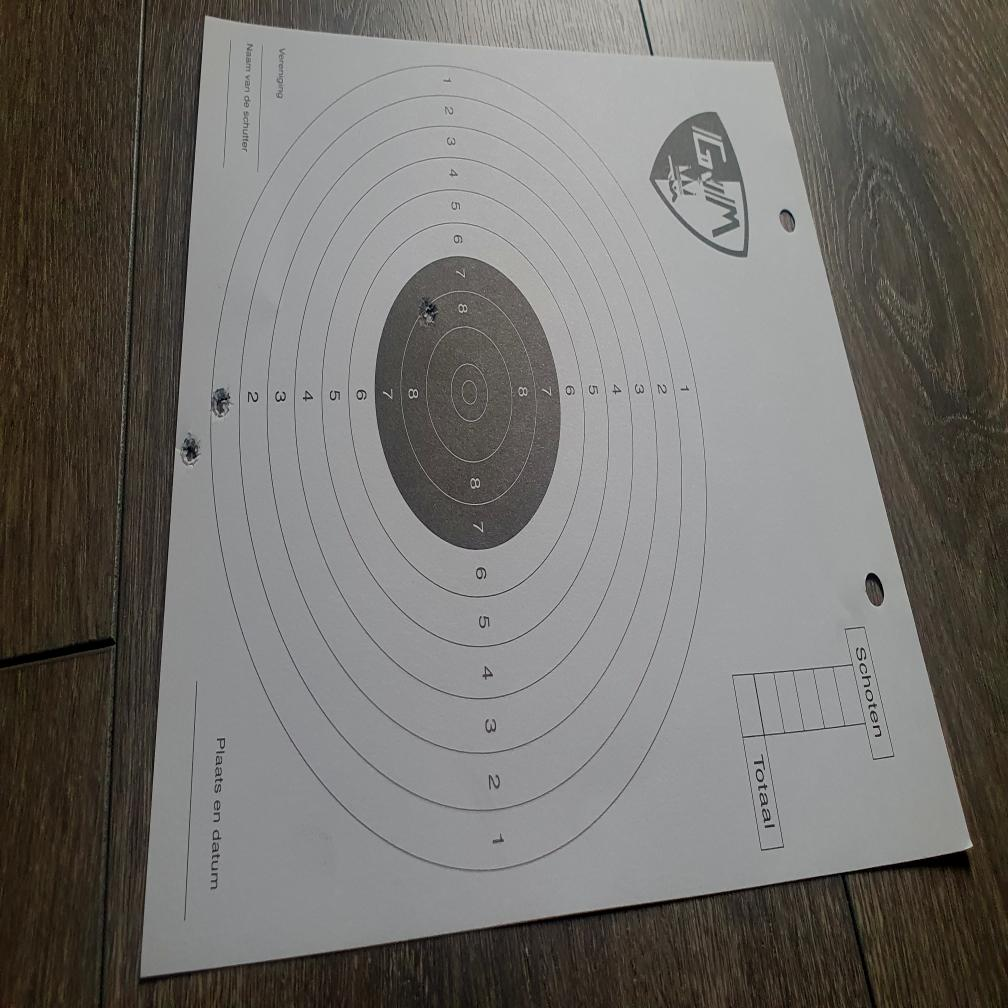0: (177, 430, 203, 470)
1: (210, 383, 234, 426)
8: (418, 296, 438, 330)
Target: (212, 56, 708, 872)
black_contour: (374, 254, 560, 551)
